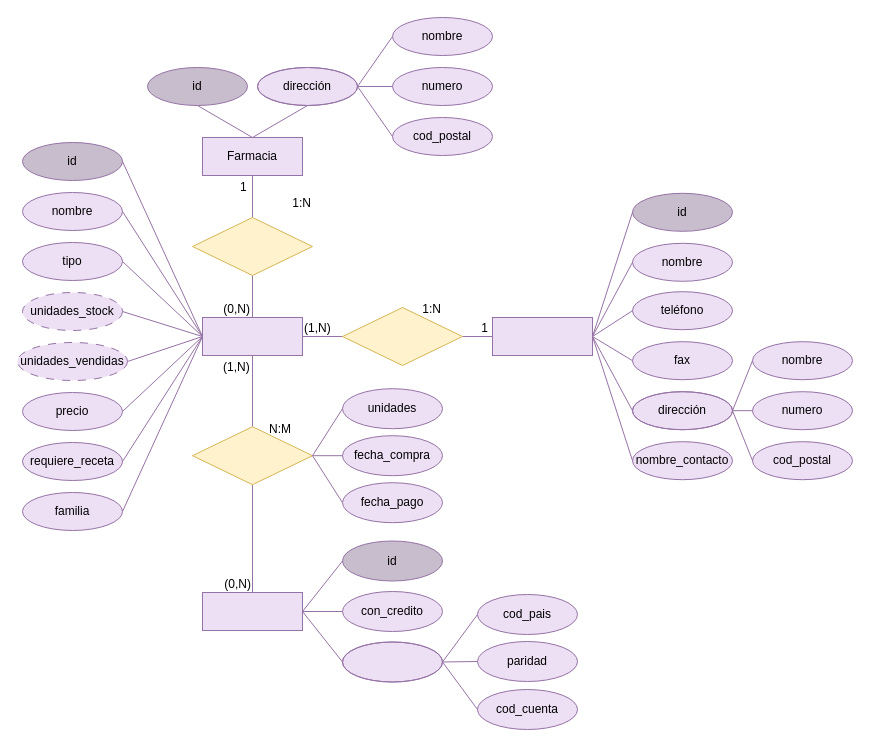
The diagram is 870 pixels wide and 747 high, and some of its shapes have lost their labels. Each missing label, with the box of its shape:
Cliente: (202, 592, 302, 630)
compra: (192, 426, 312, 485)
fabrica: (192, 216, 312, 276)
Laboratorio: (492, 316, 592, 356)
Medicamento: (202, 316, 302, 356)
num_IBAN: (342, 641, 442, 682)
vende: (342, 306, 462, 366)
